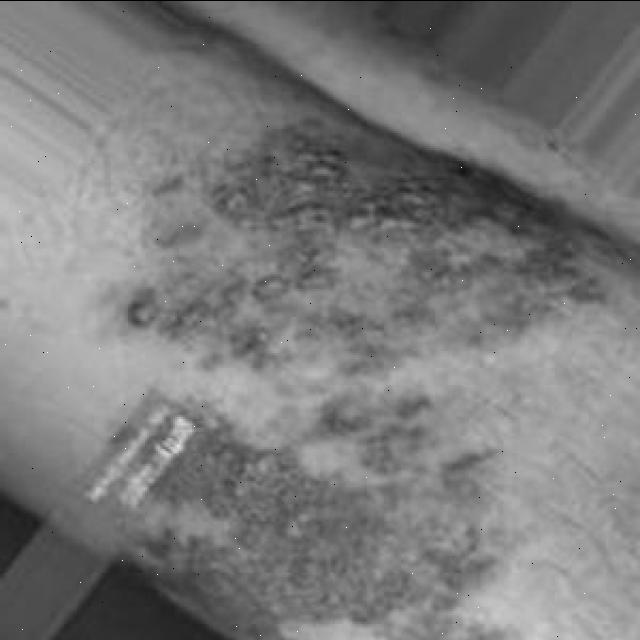Shingles: (131, 120, 611, 372), (125, 392, 497, 640)
